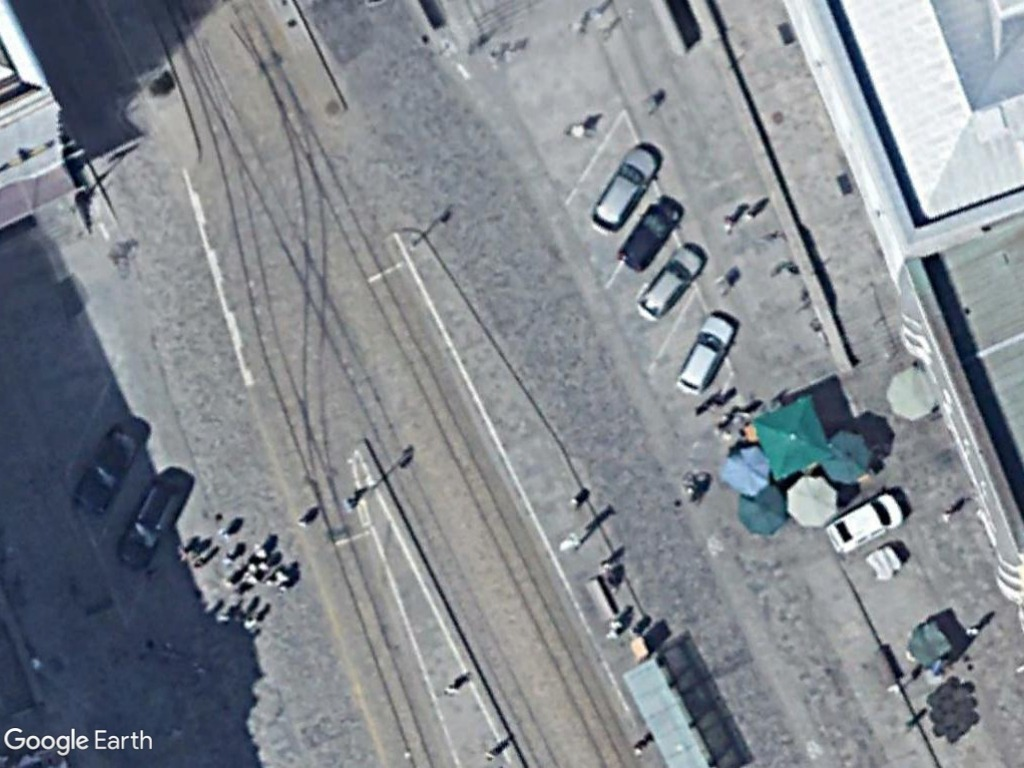car: (65, 420, 144, 527), (109, 470, 186, 575), (584, 140, 663, 237), (670, 306, 743, 401), (633, 237, 708, 325), (820, 487, 907, 557), (614, 192, 683, 274)
